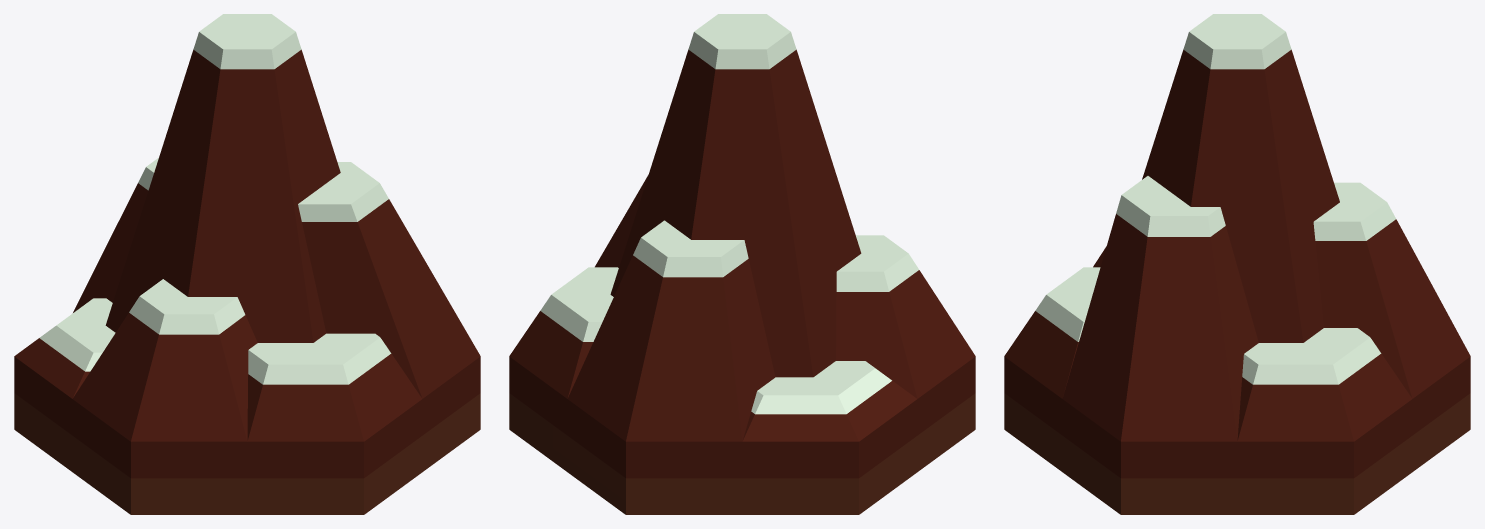
File: SM_MountainHigh.FBX
3 renders of one model, left to right at view 1: azimuth 30°, elevation 25°; view 2: azimuth 150°, elevation 25°; view 3: azimuth 270°, elevation 25°, orthographic.
Parts seen in each view (by area): view 1: SM_MountainHigh; view 2: SM_MountainHigh; view 3: SM_MountainHigh.
Boxes of the visible parts, left/top/right/bottom form: SM_MountainHigh: left=14, top=14, right=480, bottom=514; SM_MountainHigh: left=509, top=14, right=975, bottom=514; SM_MountainHigh: left=1004, top=14, right=1470, bottom=514.
Size of the model in its own units: 100 by 115 by 109.
